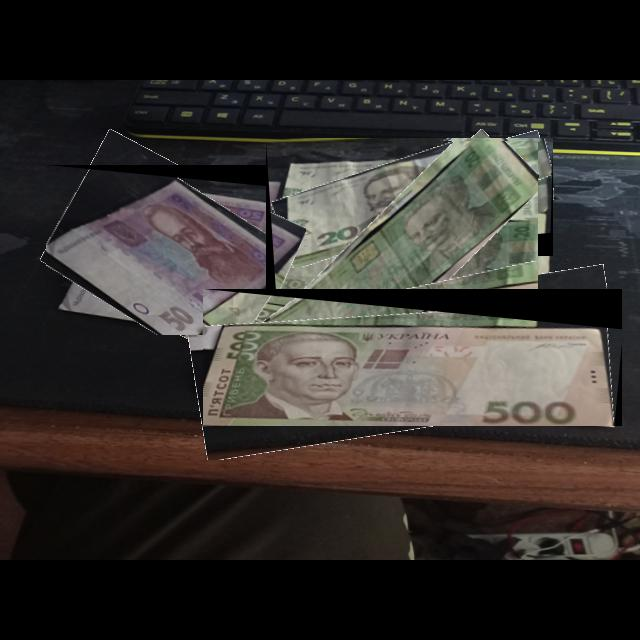20uah: (276, 141, 539, 391), (282, 138, 554, 257)
500uah: (203, 320, 616, 427)
50uah: (46, 175, 296, 336)
